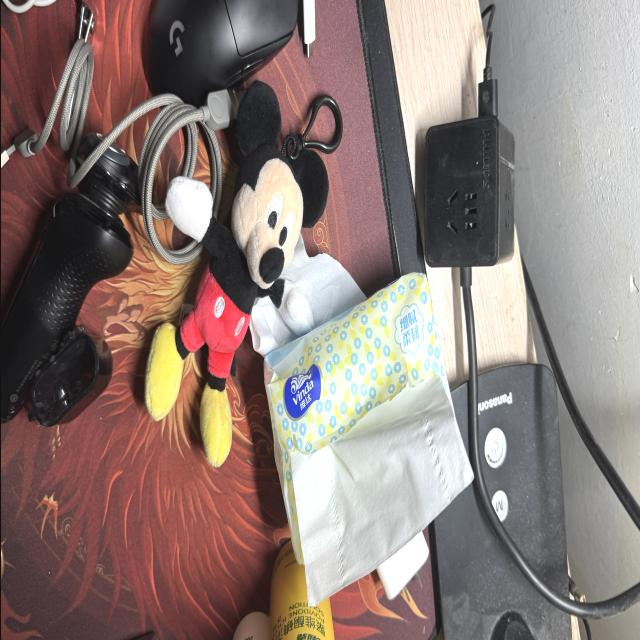mickey: (144, 82, 327, 466)
tissue: (264, 275, 470, 601), (290, 378, 472, 604), (249, 238, 364, 355)
